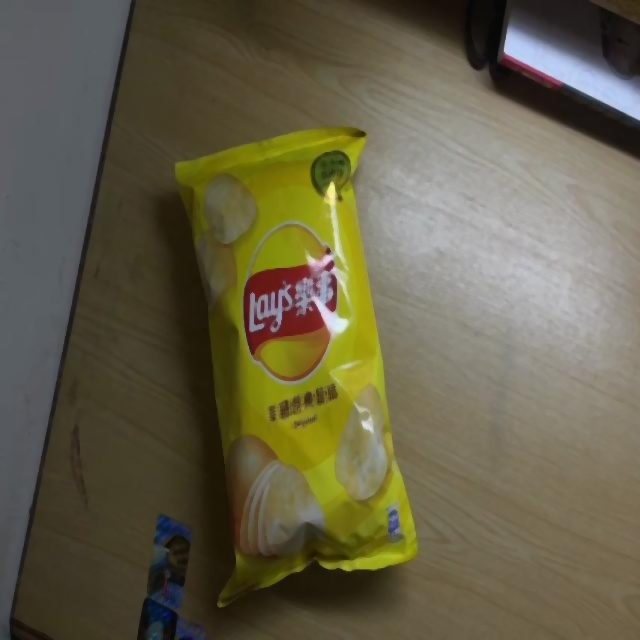Lay-s-original: (173, 123, 418, 612)
